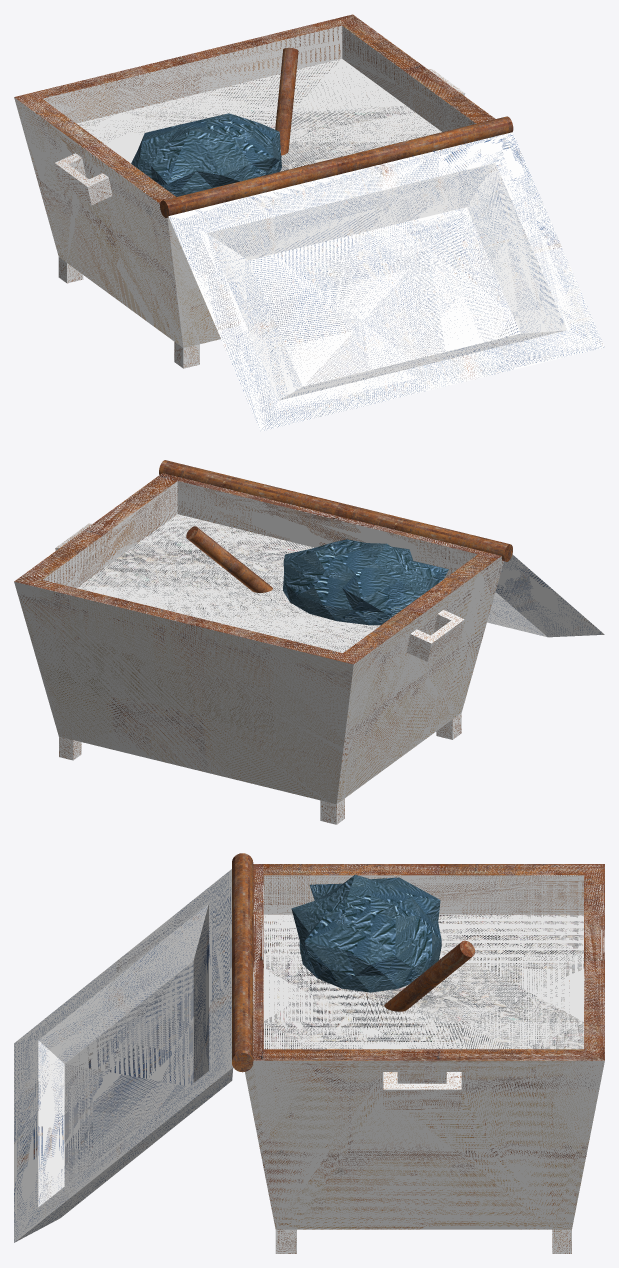
The model's file is rubbish.dae.
3 renders of one model, top to bottom at view 1: azimuth 30°, elevation 25°; view 2: azimuth 150°, elevation 25°; view 3: azimuth 270°, elevation 25°, orthographic. The views are drawn at different scales.
Parts seen in each view (by area): view 1: SketchUp (×10), GeodesicDome02; view 2: SketchUp (×9), GeodesicDome02; view 3: SketchUp (×9), GeodesicDome02.
Boxes of the visible parts, x1,y1,x2,y2 form: SketchUp (×10): (14,14,604,431); GeodesicDome02: (131,113,281,196); SketchUp (×9): (14,460,604,824); GeodesicDome02: (282,539,448,625); SketchUp (×9): (14,853,604,1253); GeodesicDome02: (291,874,441,992).
Bounding box in the file's own units: 140 × 160 × 77.35.
